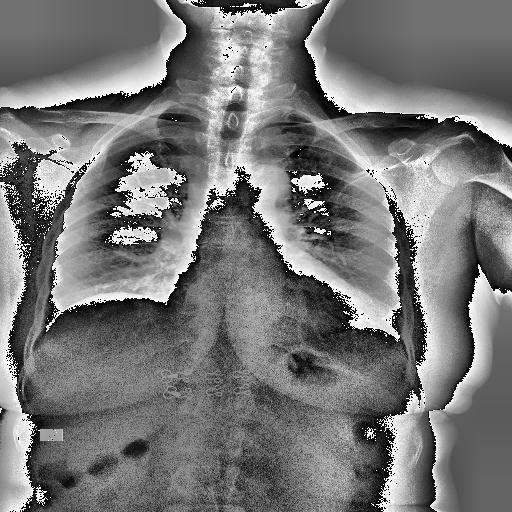0- Aortic enlargement: (238, 166, 294, 220), (235, 164, 291, 208), (242, 162, 292, 210)
3- Cardiomegaly: (168, 267, 380, 330), (164, 284, 385, 334), (166, 285, 384, 322)
